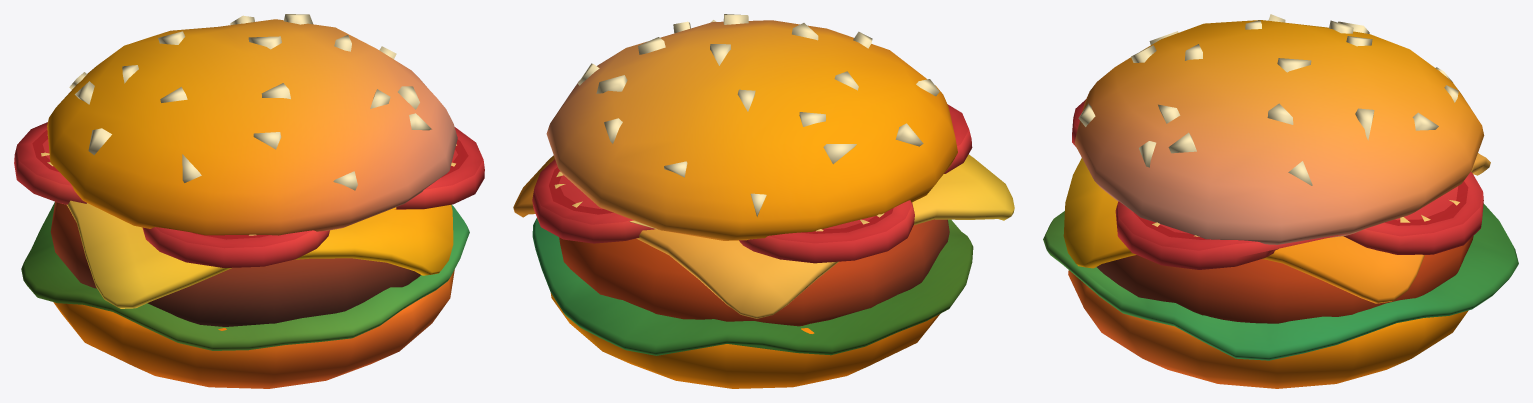
File: burger_001.fbx
The picture shows the model from 3 angles, left to right: view 1: azimuth 30°, elevation 25°; view 2: azimuth 150°, elevation 25°; view 3: azimuth 270°, elevation 25°; orthographic projection.
Parts seen in each view (by area): view 1: burger_001; view 2: burger_001; view 3: burger_001.
Boxes of the visible parts, bbox=[...] form: burger_001: bbox=[14, 14, 484, 388]; burger_001: bbox=[513, 14, 1014, 388]; burger_001: bbox=[1043, 14, 1518, 388].
Size of the model in its own units: 13.98 by 13.98 by 8.94.
